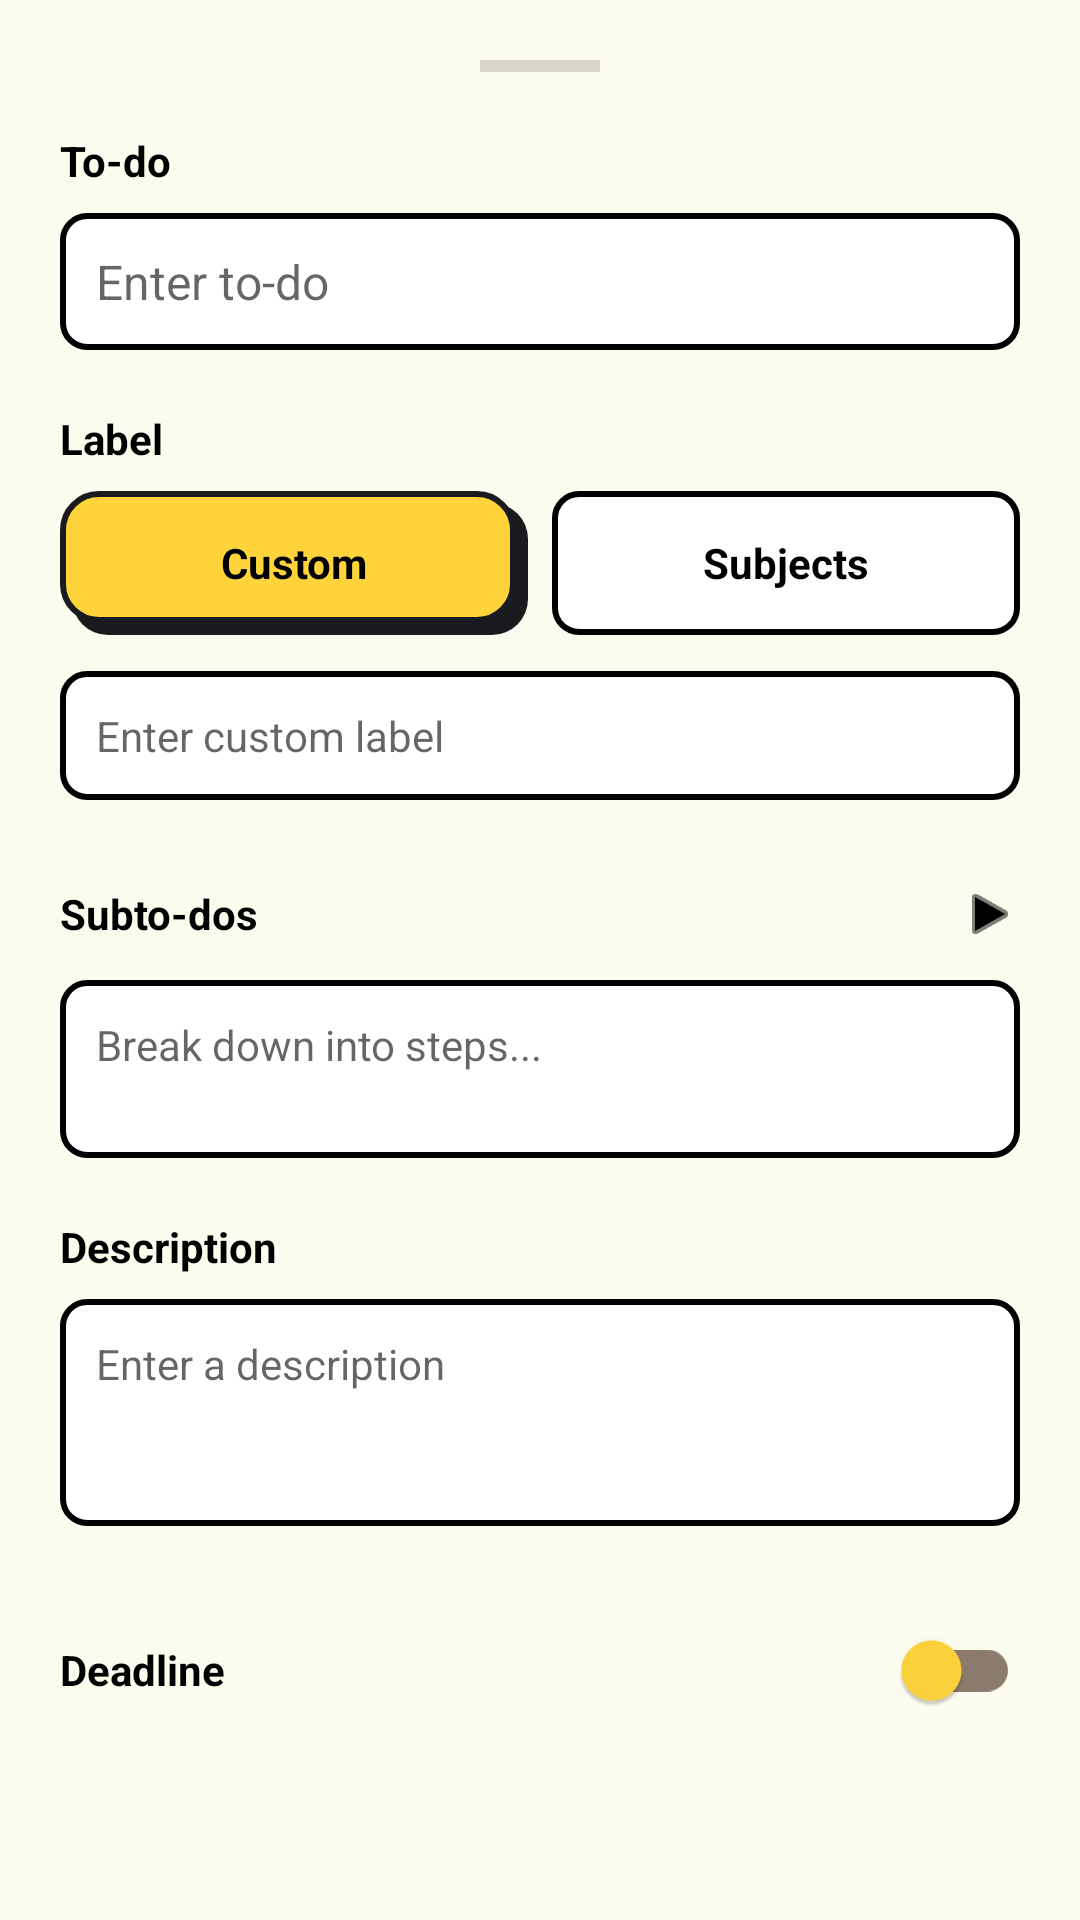

Screen size 1080w x 1920h. Icon name, then its center in pixels as (x,y):
play: (990,914)
